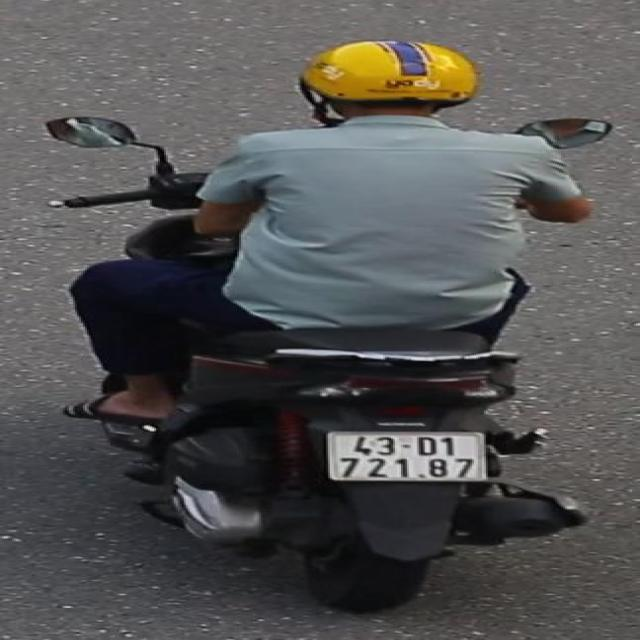LP: (320, 428, 494, 488)
helmet: (286, 35, 486, 134)
